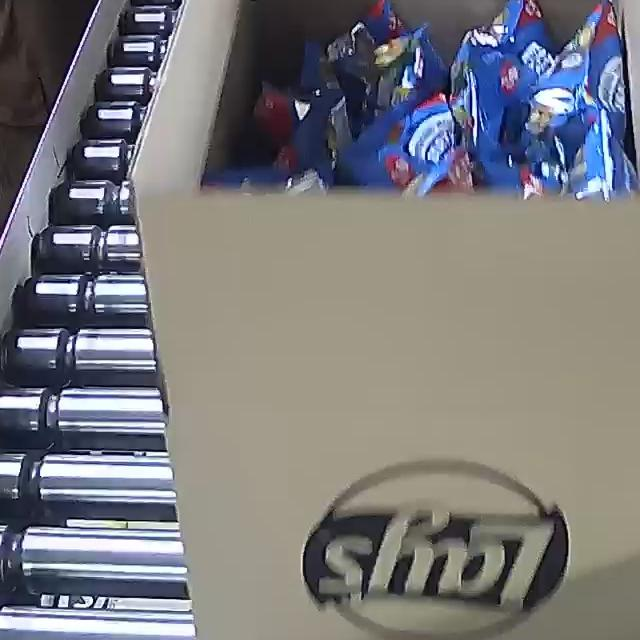paprika: (225, 0, 640, 208)
